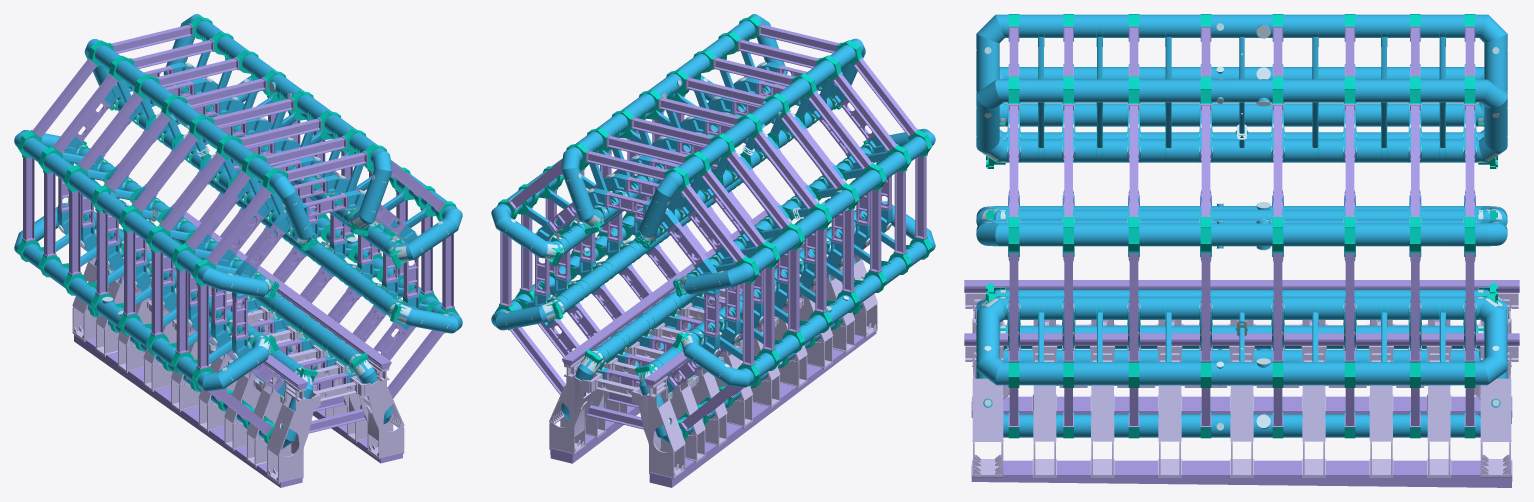
Rendered from Barrel_Toroid_Scene-Draco.glb.
3 views of the same model, side by side, from view 1: azimuth 30°, elevation 25°; view 2: azimuth 150°, elevation 25°; view 3: azimuth 270°, elevation 25° (orthographic). The views are drawn at different scales.
Parts seen in each view (by area): view 1: barrel toroid scene; view 2: barrel toroid scene; view 3: barrel toroid scene.
Boxes of the visible parts, x1=… form: barrel toroid scene: x1=14, y1=14, x2=462, y2=487; barrel toroid scene: x1=491, y1=14, x2=935, y2=487; barrel toroid scene: x1=964, y1=14, x2=1519, y2=487.
Size of the model in its own units: 18.93 by 21.16 by 26.42.
